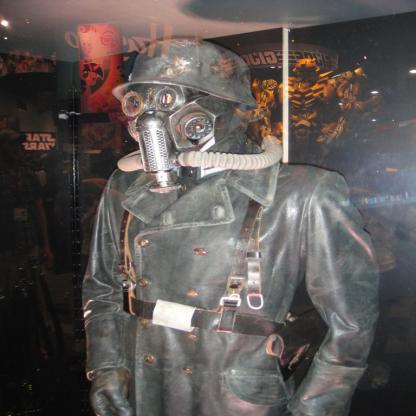Helmet: (108, 47, 259, 134)
